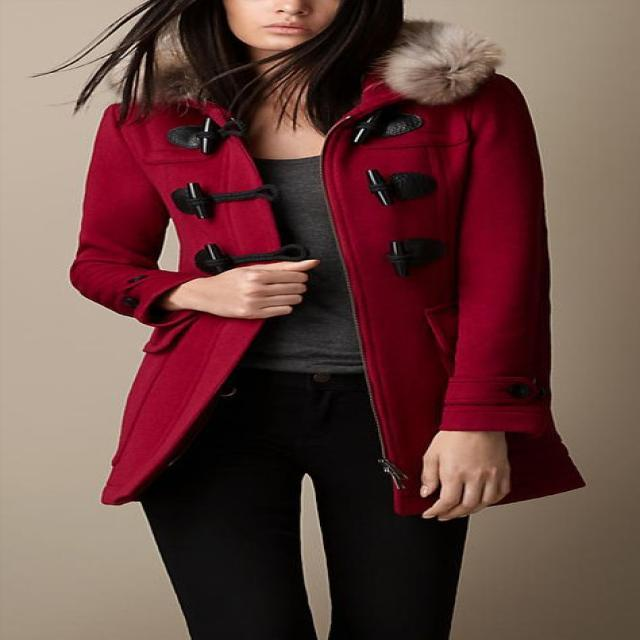coat: (68, 53, 590, 522)
trousers: (136, 364, 472, 640)
vest: (221, 152, 375, 376)
